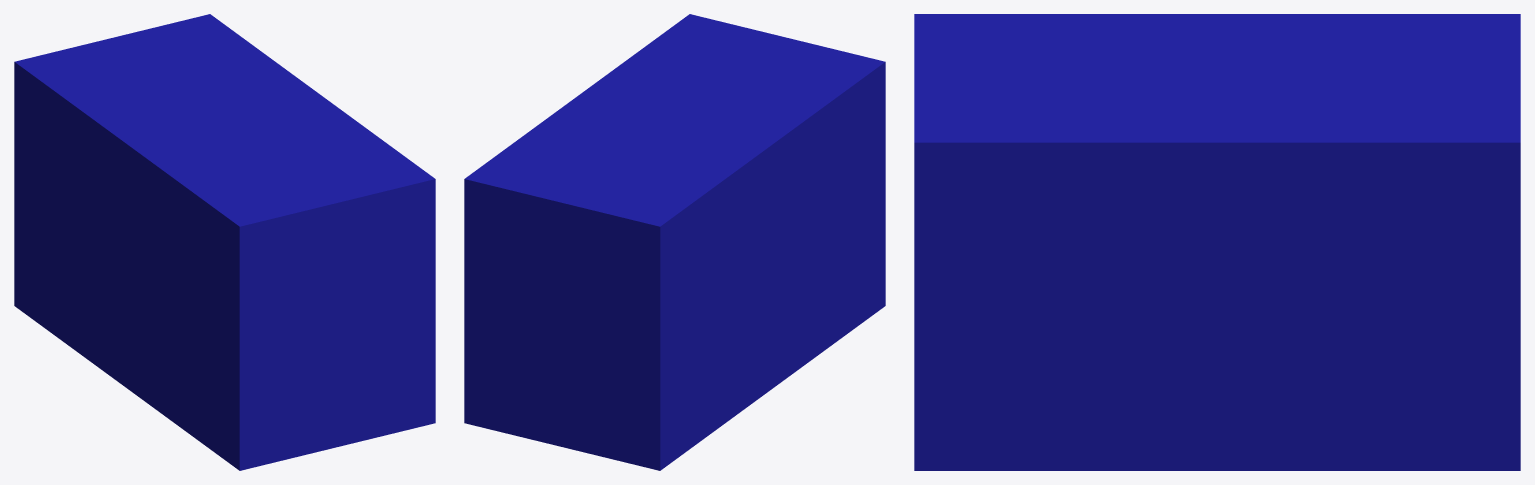
Rendered from shed_2_base.DAE.
3 renders of one model, left to right at view 1: azimuth 30°, elevation 25°; view 2: azimuth 150°, elevation 25°; view 3: azimuth 270°, elevation 25°, orthographic. The views are drawn at different scales.
Parts seen in each view (by area): view 1: bounds; view 2: bounds; view 3: bounds.
Boxes of the visible parts, x1,y1,x2,y2 form: bounds: [14, 14, 435, 470]; bounds: [464, 14, 885, 470]; bounds: [914, 14, 1520, 470].
Size of the model in its own units: 5.2 by 10.37 by 6.2.
